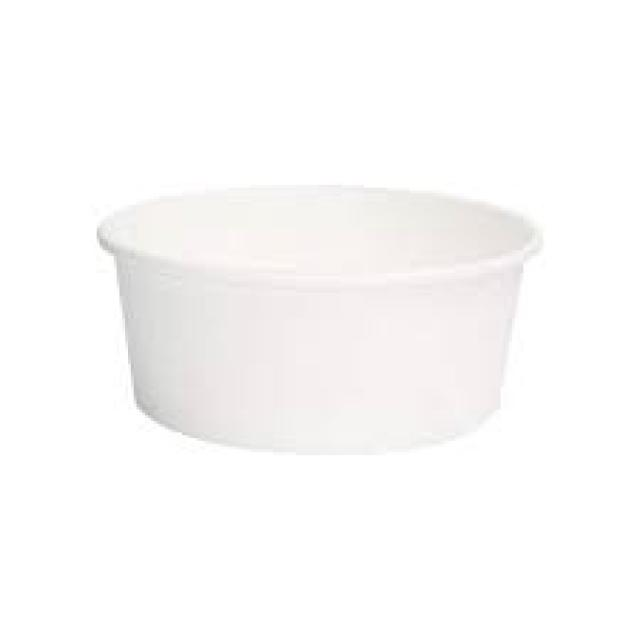disposable: (90, 175, 573, 492)
